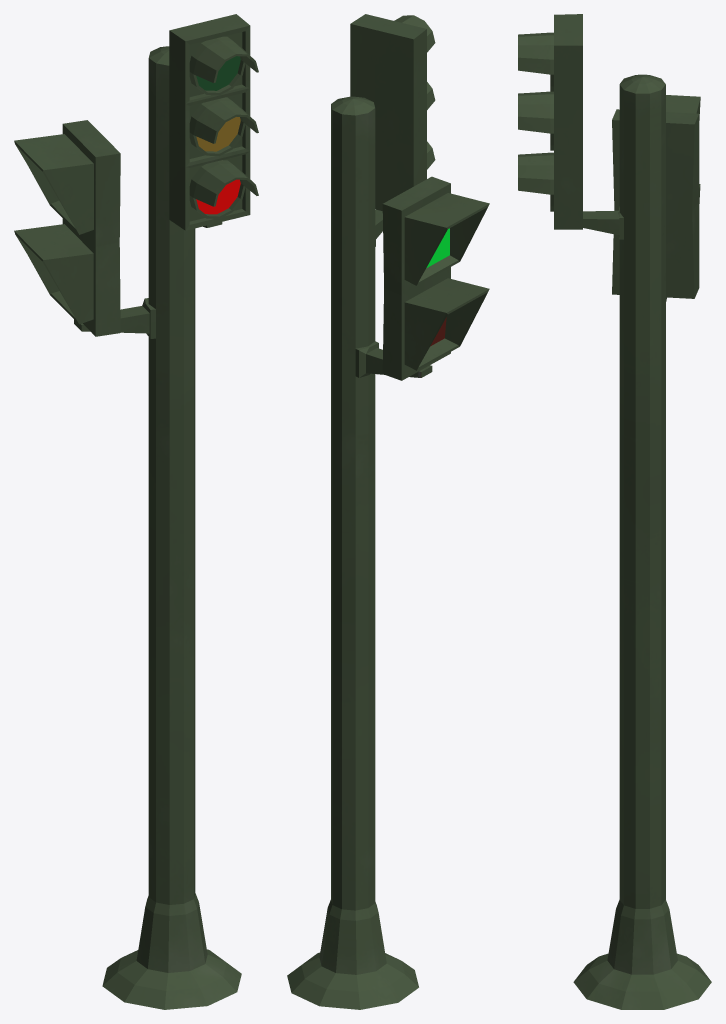
The model's file is TrafficLight.fbx.
The picture shows the model from 3 angles, left to right: view 1: azimuth 30°, elevation 25°; view 2: azimuth 150°, elevation 25°; view 3: azimuth 270°, elevation 25°; orthographic projection. The views are drawn at different scales.
Visible parts, largest first — view 1: Cylinder.011; view 2: Cylinder.011; view 3: Cylinder.011.
Part boxes in pixels (x1=…): Cylinder.011: x1=14, y1=14, x2=258, y2=1009; Cylinder.011: x1=287, y1=14, x2=489, y2=1009; Cylinder.011: x1=518, y1=14, x2=711, y2=1009.
Size of the model in its own units: 103 by 558 by 116.
